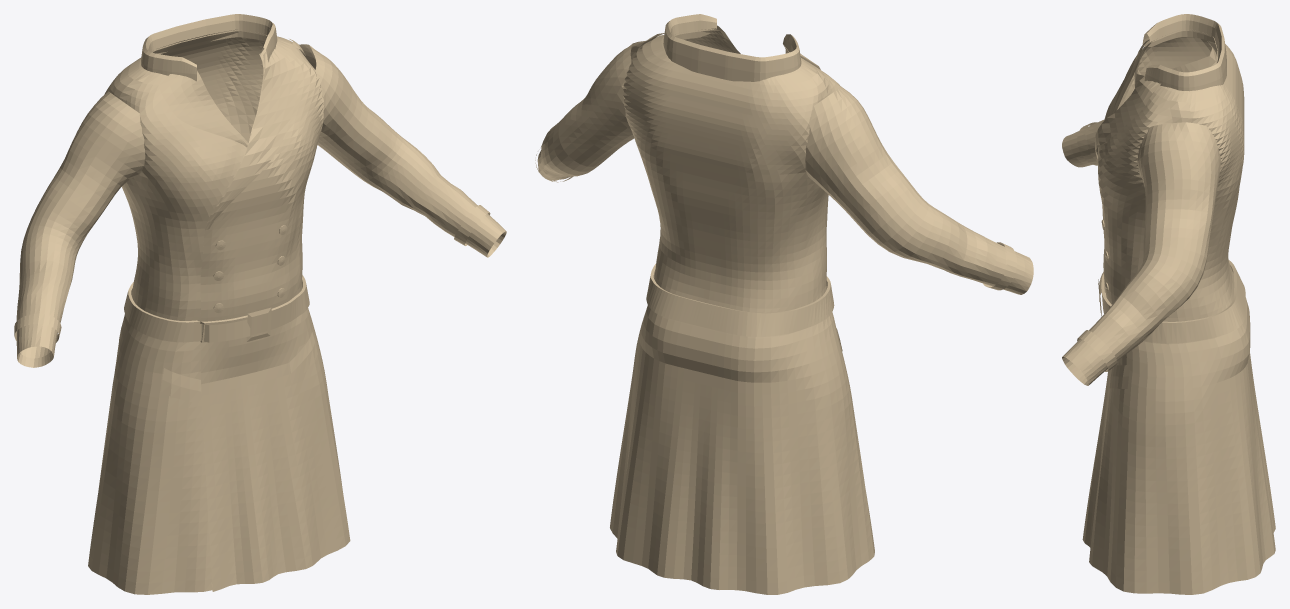
Rendered from ewb_trench.glb.
3 renders of one model, left to right at view 1: azimuth 30°, elevation 25°; view 2: azimuth 150°, elevation 25°; view 3: azimuth 270°, elevation 25°, orthographic. The views are drawn at different scales.
Parts seen in each view (by area): view 1: ewb_trench; view 2: ewb_trench; view 3: ewb_trench.
Part boxes in pixels (bbox=[...]): ewb_trench: bbox=[14, 14, 506, 594]; ewb_trench: bbox=[535, 14, 1033, 594]; ewb_trench: bbox=[1062, 14, 1275, 594].
Bounding box in the file's own units: 1.11 × 1.11 × 0.4327.
